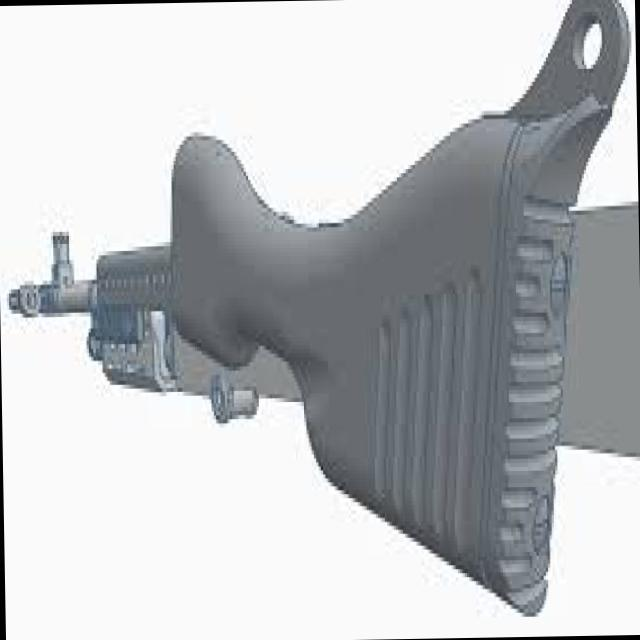Gun: (3, 0, 640, 625)
